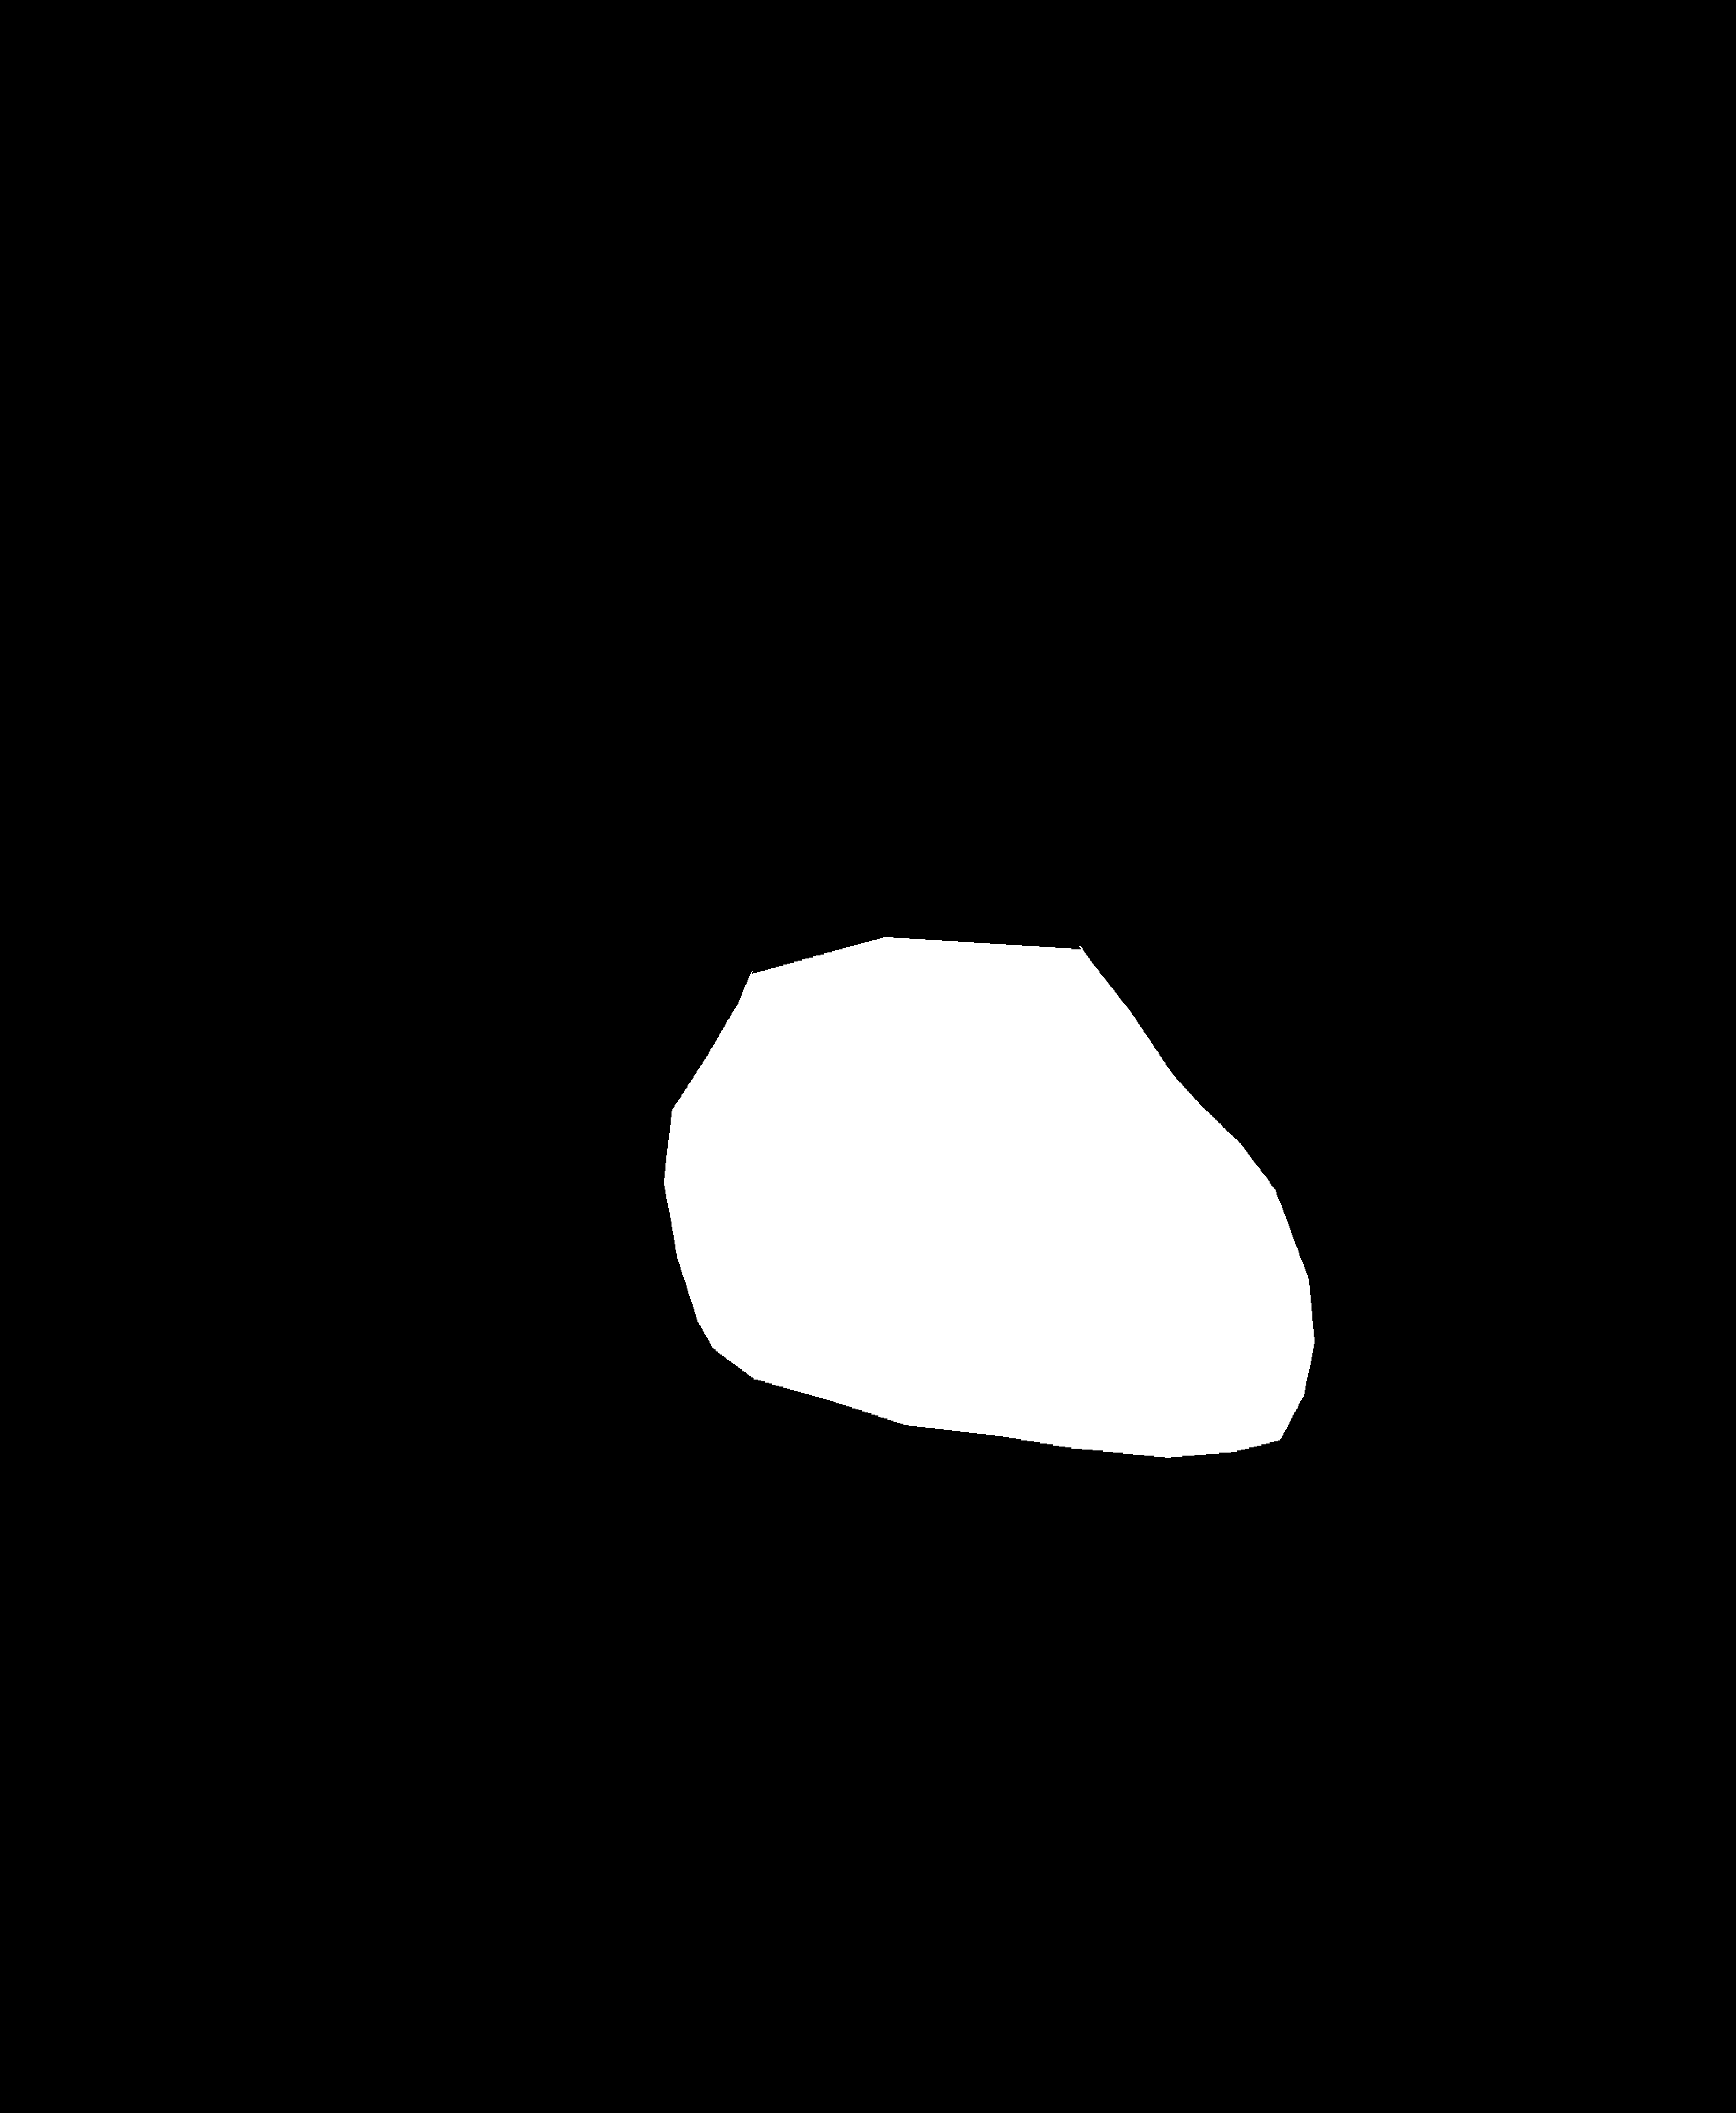heart: (669, 953, 1309, 1451)
left_lung: (154, 349, 786, 1653)
right_lung: (915, 335, 1573, 1650)
